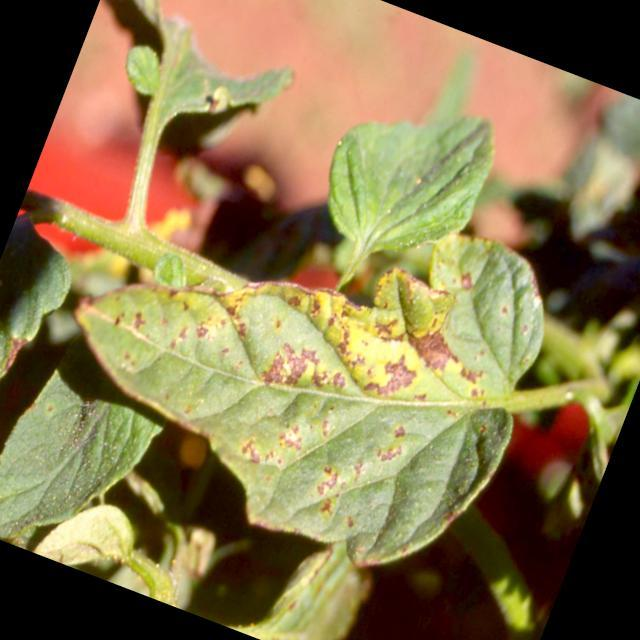Tomato bacterial spot leaf: (24, 112, 577, 608), (293, 74, 525, 324)
